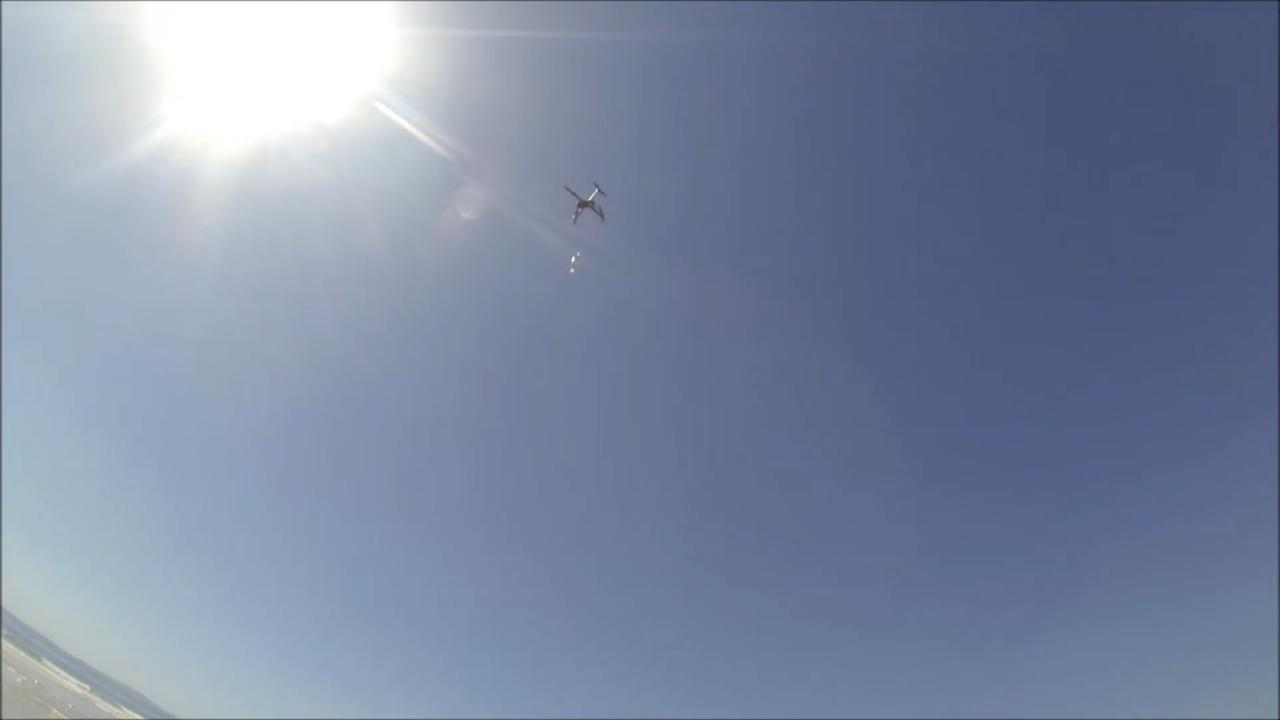Drone: (556, 176, 618, 234)
